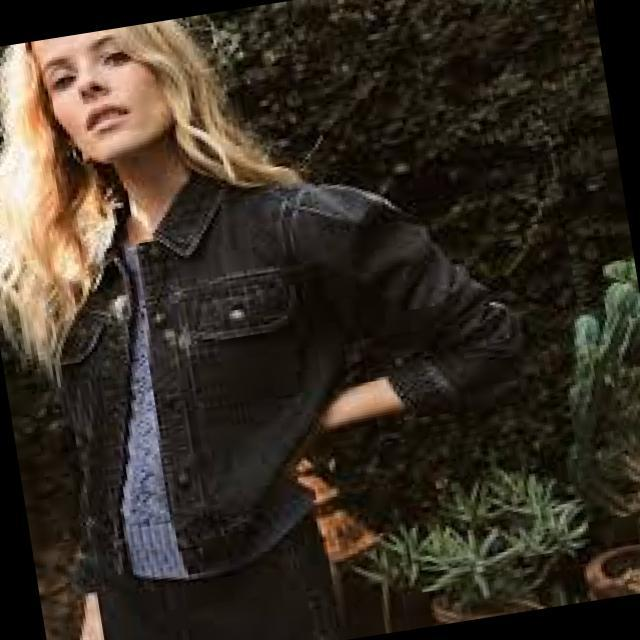jacket: (59, 171, 529, 597)
sweater: (115, 243, 316, 580)
trousers: (99, 516, 335, 640)
